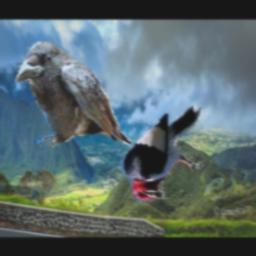Crow: (15, 42, 133, 148)
Woodpecker: (121, 102, 207, 207)
